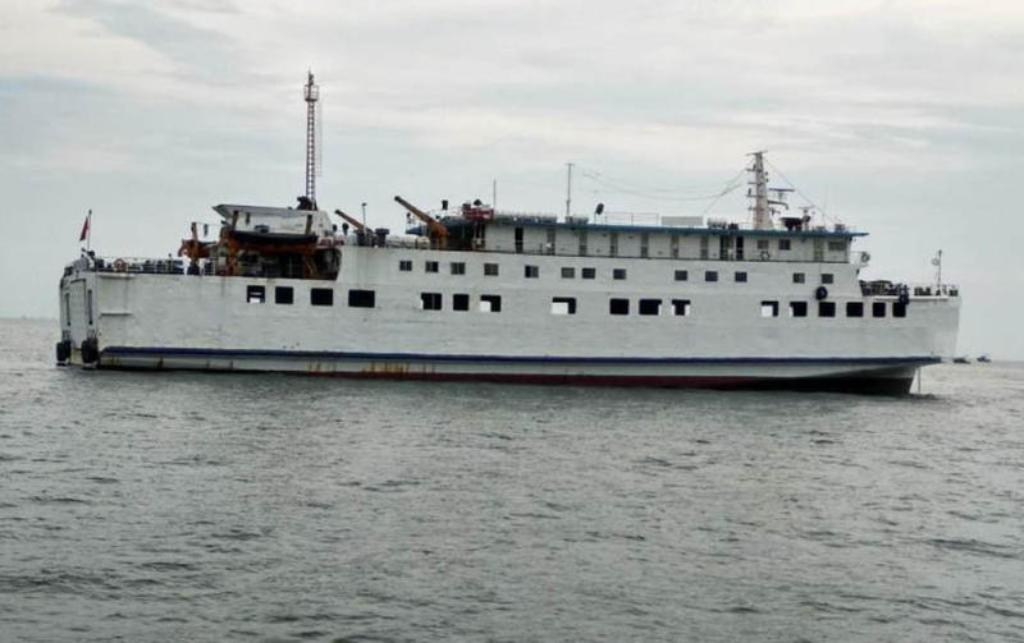PassengerShip: (48, 80, 970, 390)
